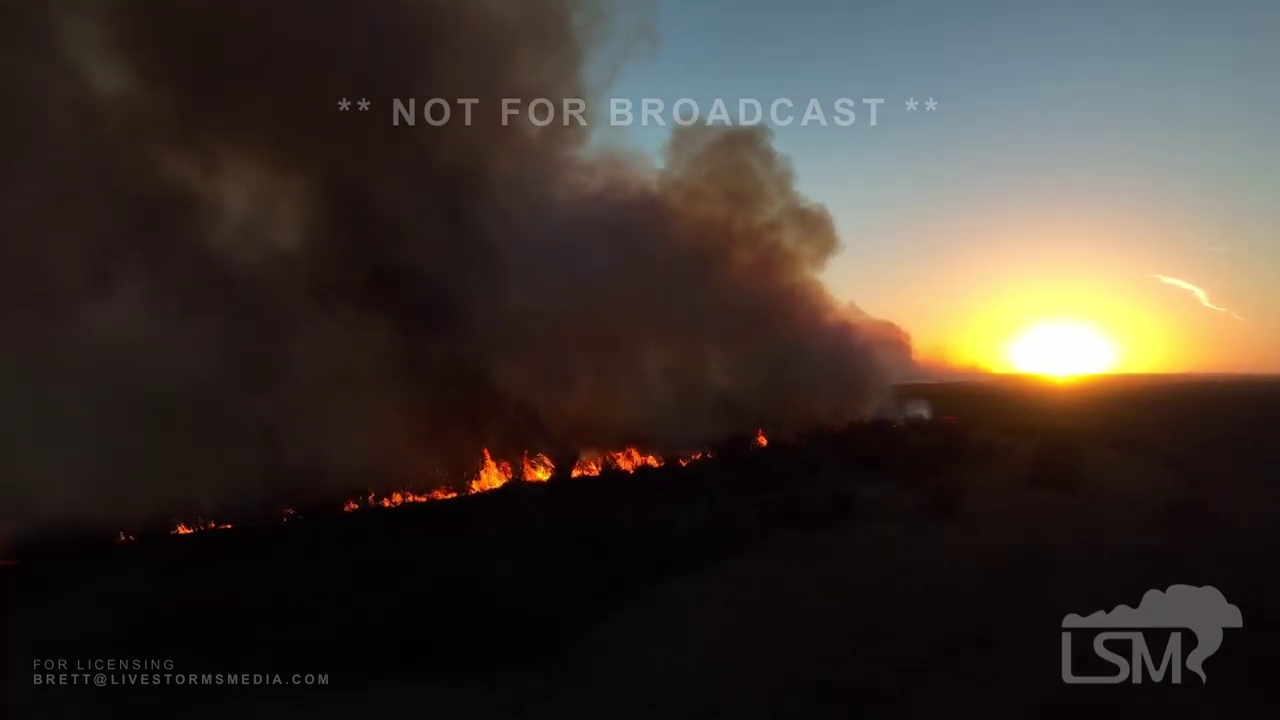forest_fire: (343, 449, 556, 511), (569, 447, 666, 477), (168, 519, 233, 534), (674, 451, 712, 466), (754, 430, 767, 446)
